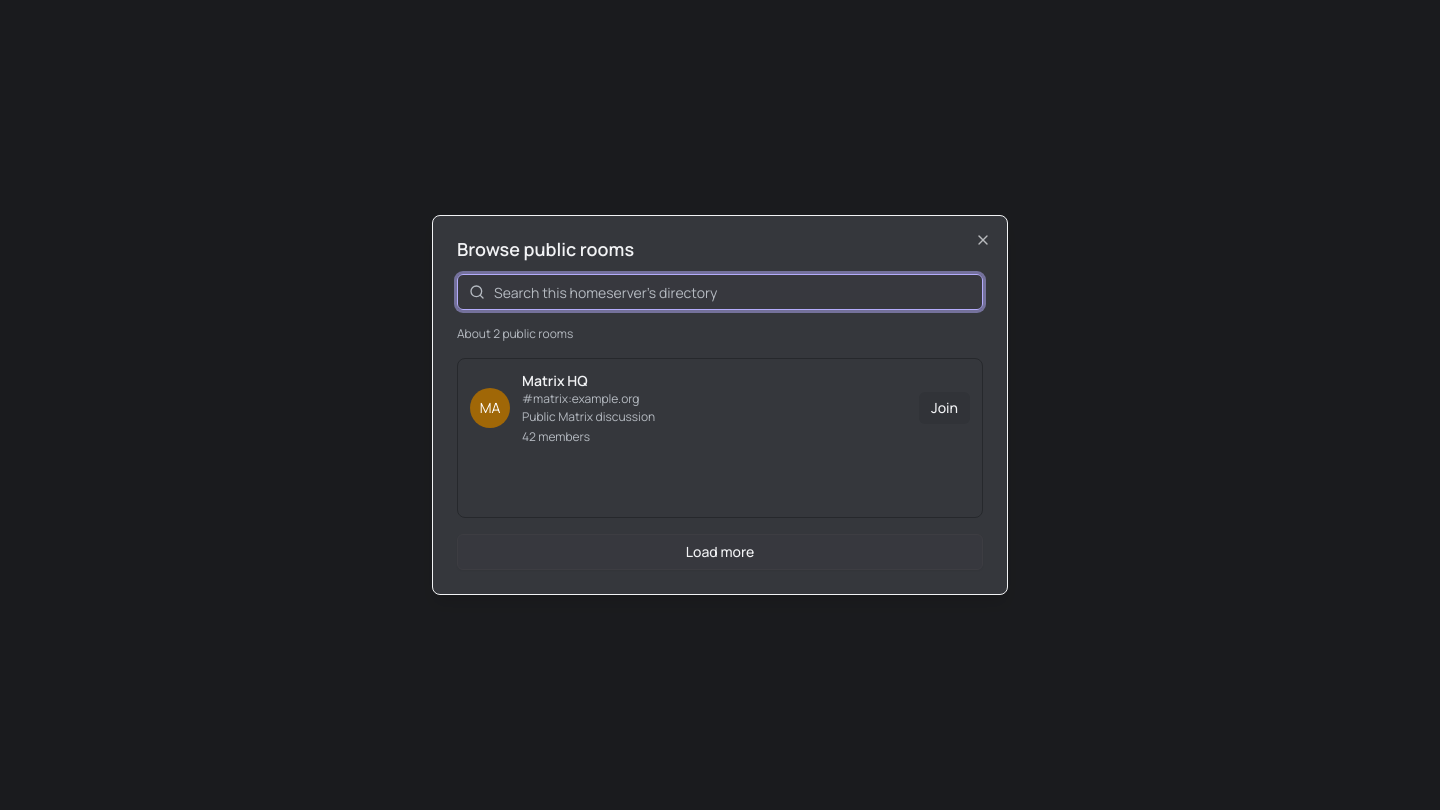
Test: RoomDirectoryDialog › clears stale pagination state when a new search supersedes it
Click the button "Load more". click: (720,552)
box: [457,534,983,570]
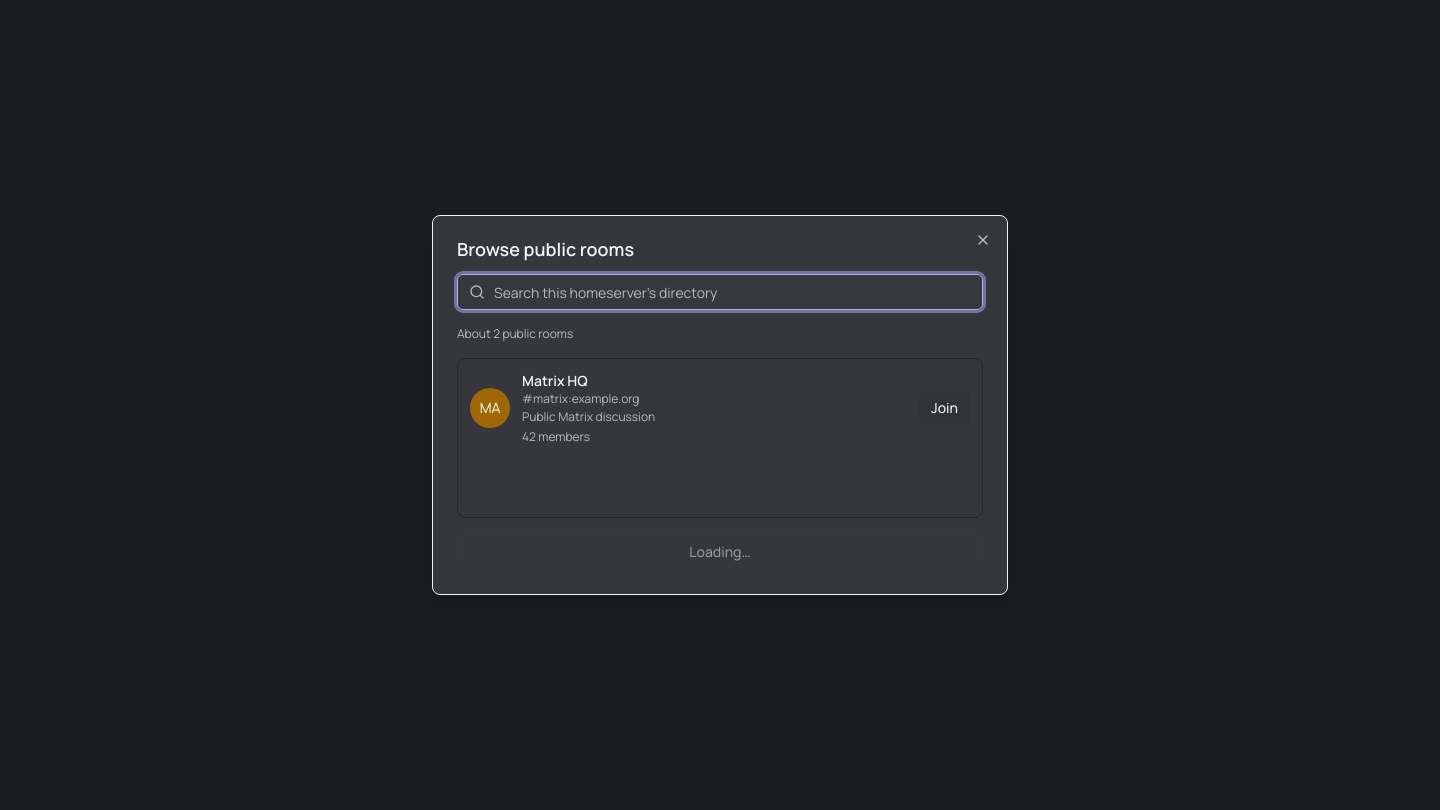
Expected: the button "Loading…" is disabled, [457,534,983,570]
Type "rust" into the search field named "Search public rooms". click: (720,292)
box: [457,274,983,310]
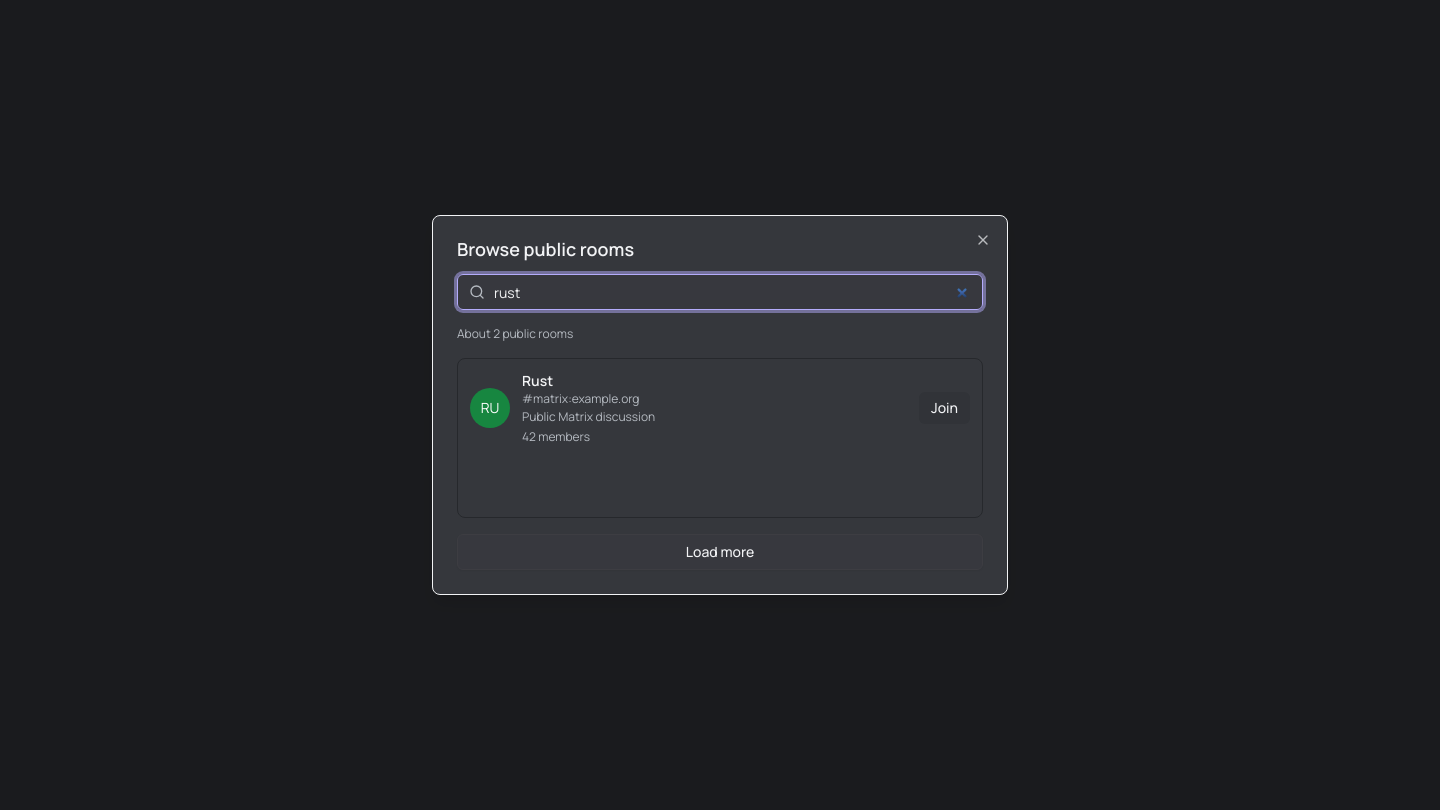
Expected: the text "Rust" is shown, [522,371,553,390]
Expected: the button "Load more" is enabled, [457,534,983,570]
